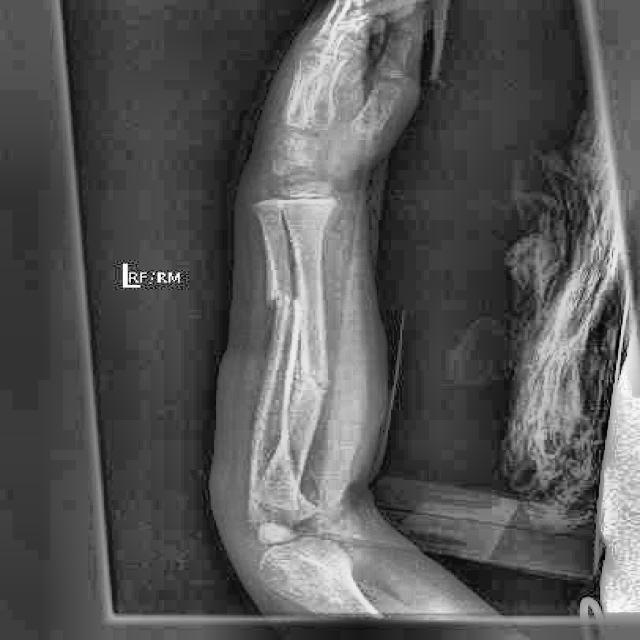forearm fracture: (265, 342, 355, 439), (249, 253, 313, 359)
